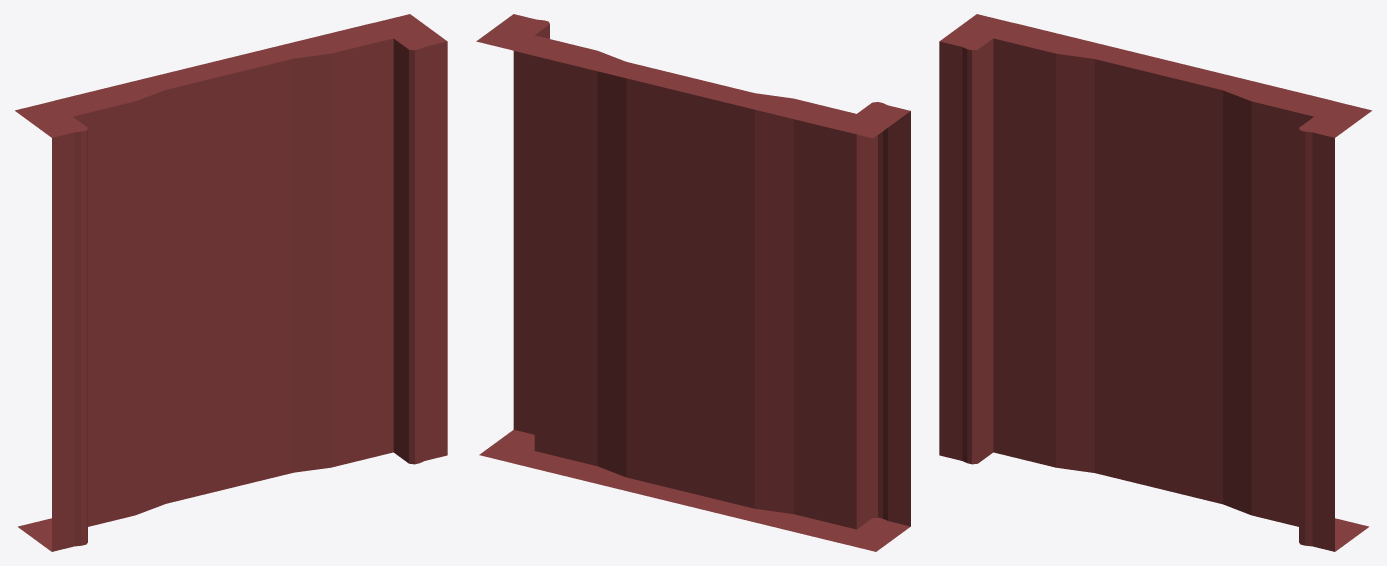
The model's file is O_V_Maria.fbx.
3 renders of one model, left to right at view 1: azimuth 30°, elevation 25°; view 2: azimuth 150°, elevation 25°; view 3: azimuth 330°, elevation 25°, orthographic.
Visible parts, largest first — view 1: O_V_Maria; view 2: O_V_Maria; view 3: O_V_Maria.
Boxes of the visible parts, x1=… form: O_V_Maria: x1=15, y1=14, x2=447, y2=551; O_V_Maria: x1=476, y1=14, x2=910, y2=551; O_V_Maria: x1=939, y1=14, x2=1371, y2=551.
Size of the model in its own units: 6.5 by 6.5 by 1.1.
